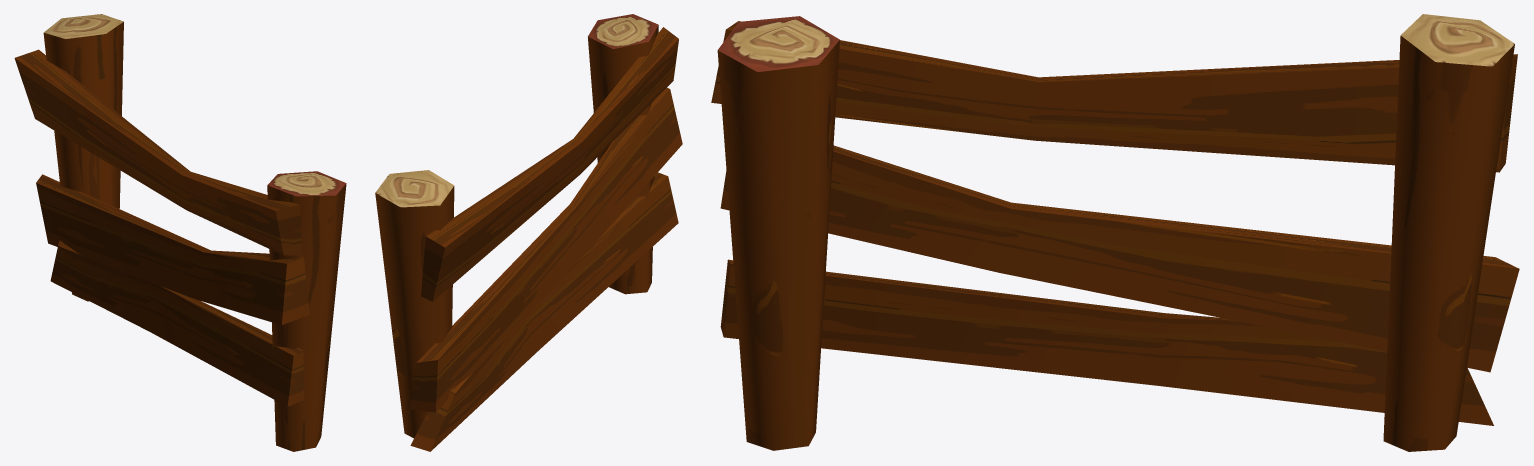
Rendered from Cerca_02.fbx.
3 views of the same model, side by side, from view 1: azimuth 30°, elevation 25°; view 2: azimuth 150°, elevation 25°; view 3: azimuth 270°, elevation 25° (orthographic). The views are drawn at different scales.
Parts seen in each view (by area): view 1: Cerca_02; view 2: Cerca_02; view 3: Cerca_02.
Part boxes in pixels (x1,y1,x2,y2): Cerca_02: [14, 14, 346, 451]; Cerca_02: [375, 14, 682, 451]; Cerca_02: [711, 14, 1519, 451].
Size of the model in its own units: 41.15 by 117 by 209.
